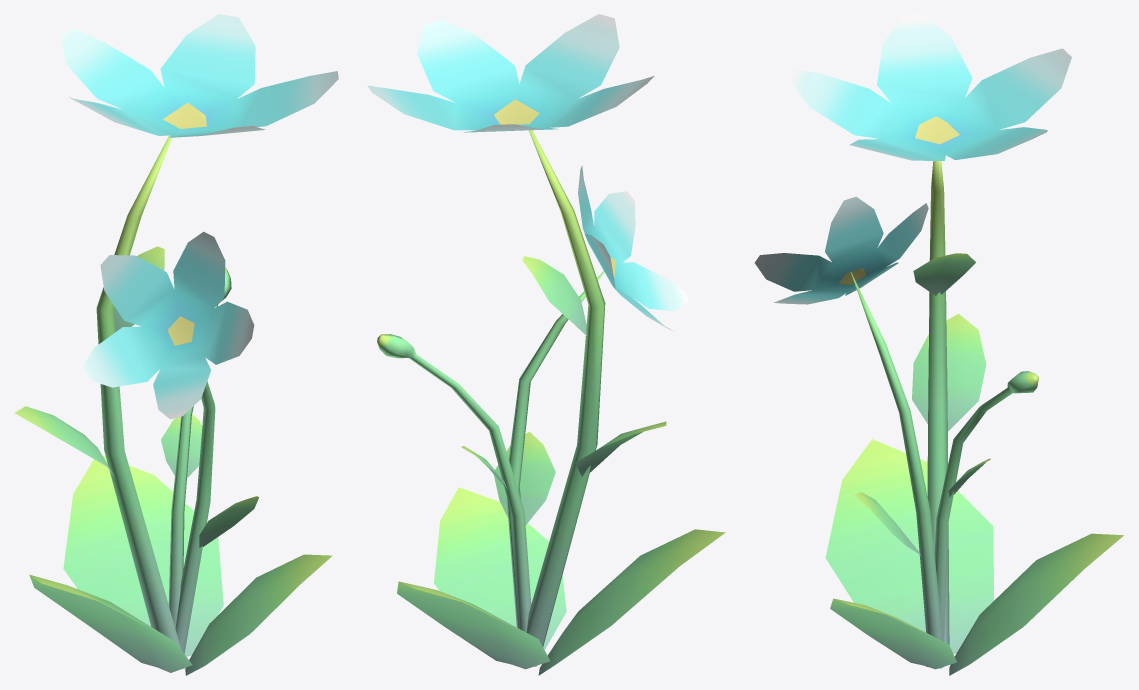
Rendered from Flower.007_Base_Material_0.fbx.
3 renders of one model, left to right at view 1: azimuth 30°, elevation 25°; view 2: azimuth 150°, elevation 25°; view 3: azimuth 270°, elevation 25°, orthographic.
Visible parts, largest first — view 1: Flower.007_Base_Material_0_export; view 2: Flower.007_Base_Material_0_export; view 3: Flower.007_Base_Material_0_export.
Part boxes in pixels (x1,y1,x2,y2): Flower.007_Base_Material_0_export: (14,14,338,675); Flower.007_Base_Material_0_export: (367,14,725,675); Flower.007_Base_Material_0_export: (754,14,1123,675).
Size of the model in its own units: 1.53 by 2.94 by 1.66.
